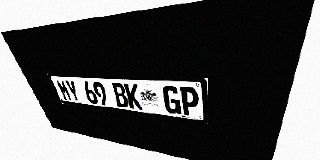6: (81, 81, 99, 104)
9: (91, 82, 110, 106)
B: (111, 83, 130, 108)
G: (162, 85, 181, 115)
K: (124, 83, 143, 110)
M: (55, 80, 73, 101)
P: (179, 86, 199, 117)
Y: (64, 80, 82, 102)
